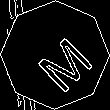M_NW: (21, 21, 89, 89)
